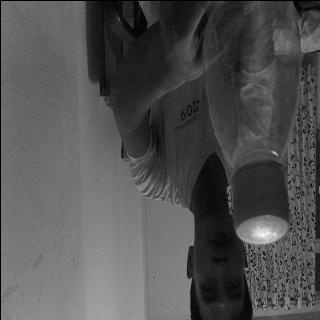plastic_bottles: (200, 0, 302, 248)
